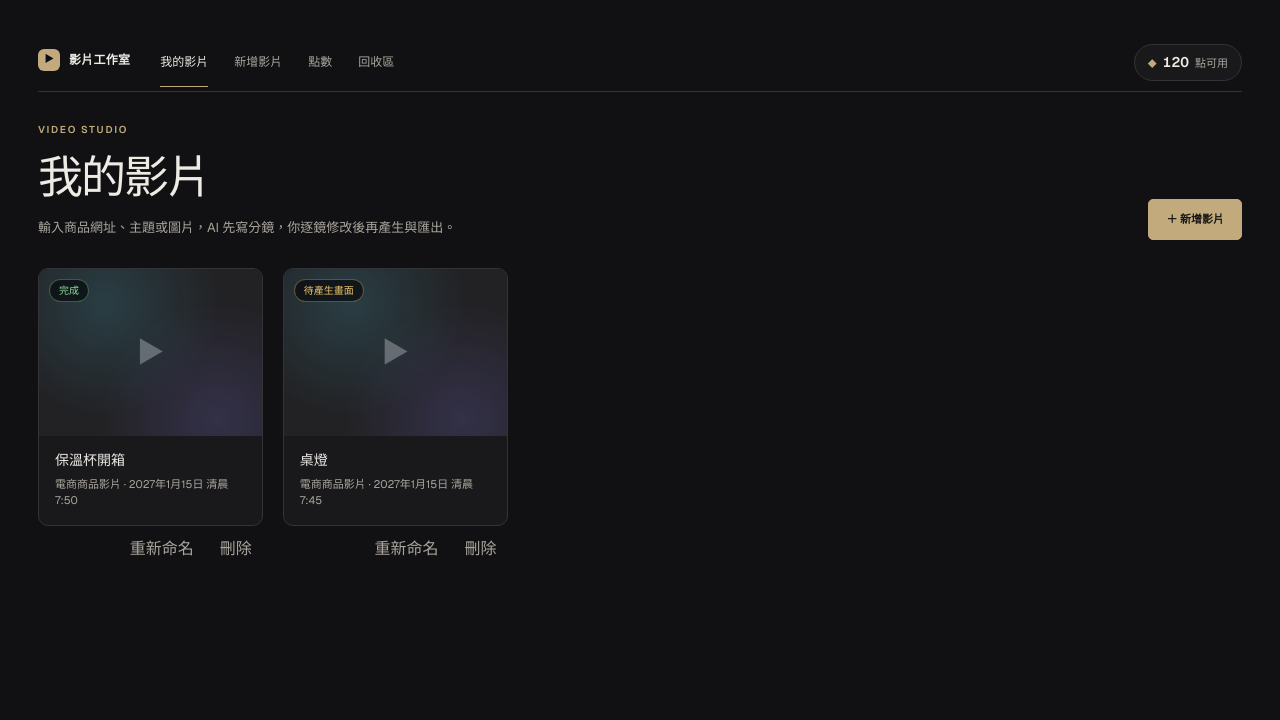
rename from the list › saves a trimmed title of at most 120 characters through the settings route
Click the button with aria-label "重新命名「保溫杯開箱」": (162, 549) [119,532,205,566]
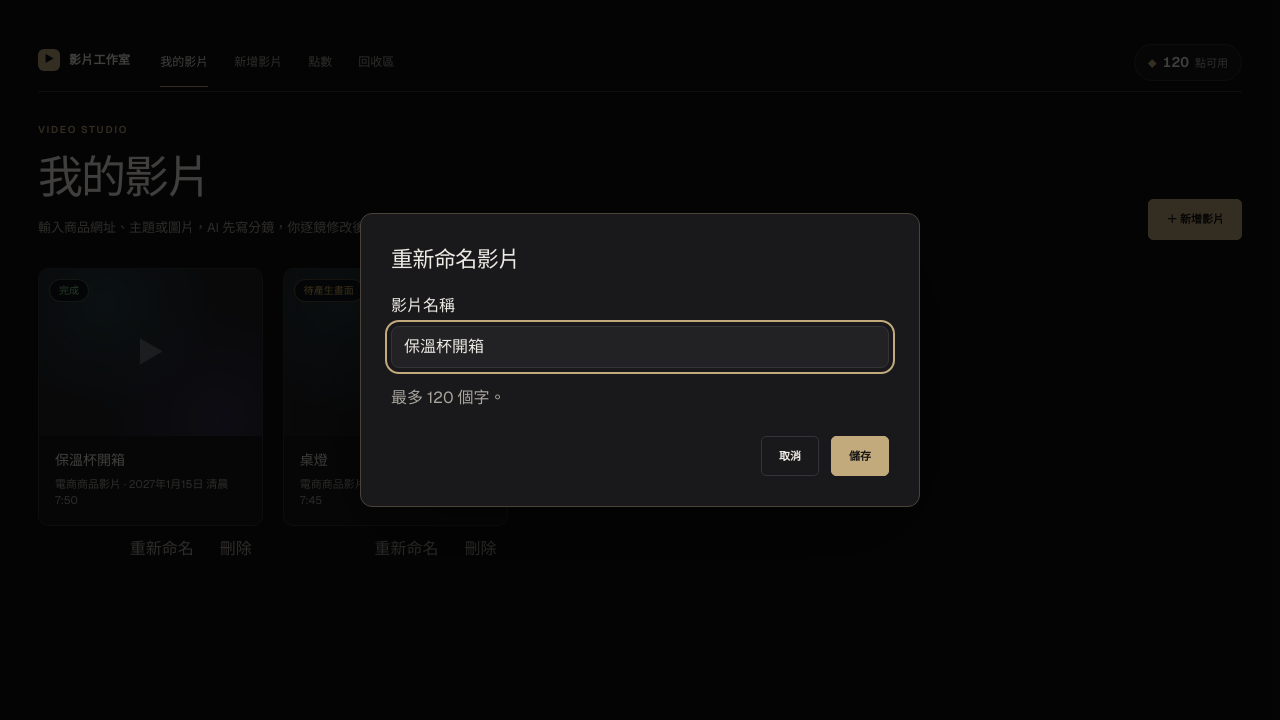
Check: the field labelled "影片名稱" holds "保溫杯開箱"
Replace the text in the field labelled "影片名稱" with "  不鏽鋼保溫杯  ": (640, 347) [391,326,889,368]
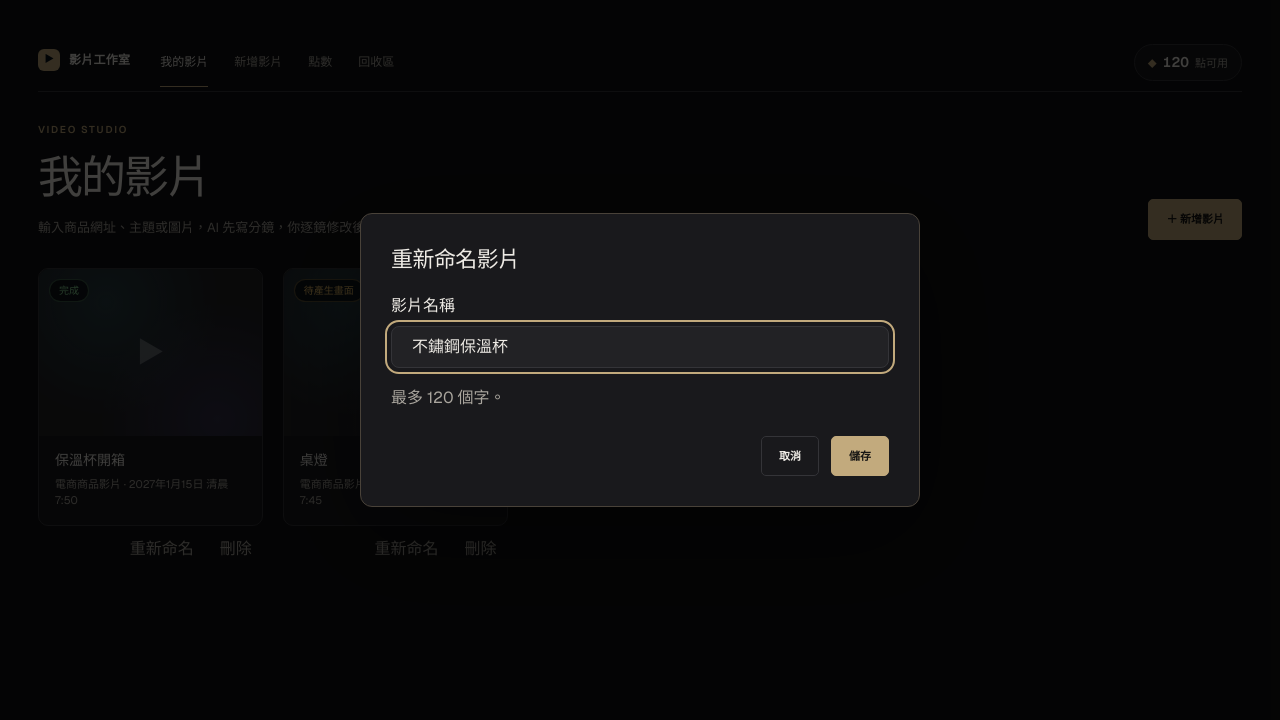
Click the button "儲存": (860, 456) [831,436,889,476]
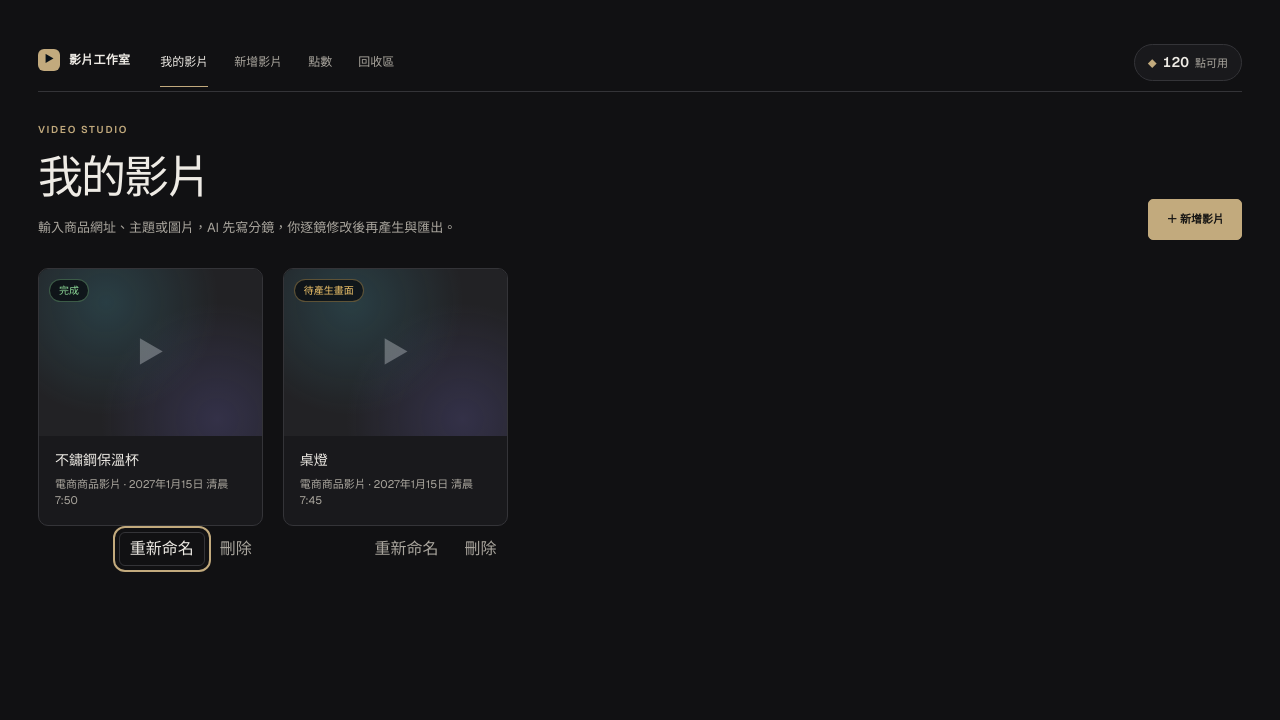
Check: the dialog is gone
